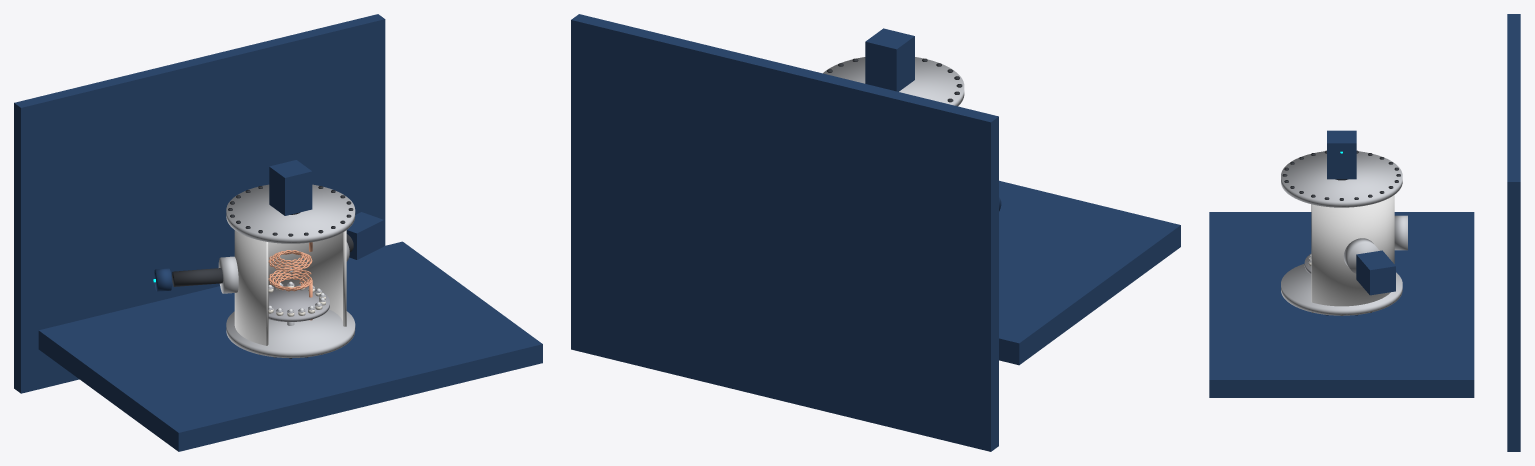
File: eml.glb
The picture shows the model from 3 angles, left to right: view 1: azimuth 30°, elevation 25°; view 2: azimuth 150°, elevation 25°; view 3: azimuth 270°, elevation 25°; orthographic projection. The views are drawn at different scales.
Visible parts, largest first — view 1: rack_back_panel, rack_base, chamber, chamber_flange_top, chamber_flange_bottom, cam_body, carousel_disc, camr_body, pyro_tube, port_ring.002; view 2: rack_back_panel, rack_base, cam_body, chamber_flange_top; view 3: rack_base, chamber, rack_back_panel, chamber_flange_top, chamber_flange_bottom, camr_body, cam_body, port_ring, port_ring.001.
Part boxes in pixels (bbox=[...]): rack_back_panel: bbox=[14, 14, 385, 393]; rack_base: bbox=[38, 241, 542, 451]; chamber: bbox=[234, 230, 346, 345]; chamber_flange_top: bbox=[226, 184, 355, 243]; chamber_flange_bottom: bbox=[226, 309, 355, 357]; cam_body: bbox=[269, 160, 312, 215]; carousel_disc: bbox=[268, 285, 329, 321]; camr_body: bbox=[346, 212, 383, 259]; pyro_tube: bbox=[172, 268, 222, 286]; port_ring.002: bbox=[218, 256, 238, 293]; rack_back_panel: bbox=[571, 14, 998, 451]; rack_base: bbox=[999, 180, 1180, 365]; cam_body: bbox=[865, 28, 914, 91]; chamber_flange_top: bbox=[823, 57, 964, 106]; rack_base: bbox=[1209, 212, 1474, 397]; chamber: bbox=[1311, 195, 1394, 306]; rack_back_panel: bbox=[1507, 14, 1520, 451]; chamber_flange_top: bbox=[1281, 151, 1402, 207]; chamber_flange_bottom: bbox=[1281, 263, 1402, 315]; camr_body: bbox=[1356, 250, 1395, 295]; cam_body: bbox=[1327, 130, 1356, 179]; port_ring: bbox=[1343, 238, 1378, 273]; port_ring.001: bbox=[1394, 215, 1407, 250].
Size of the model in its own units: 60 by 45 by 47.
